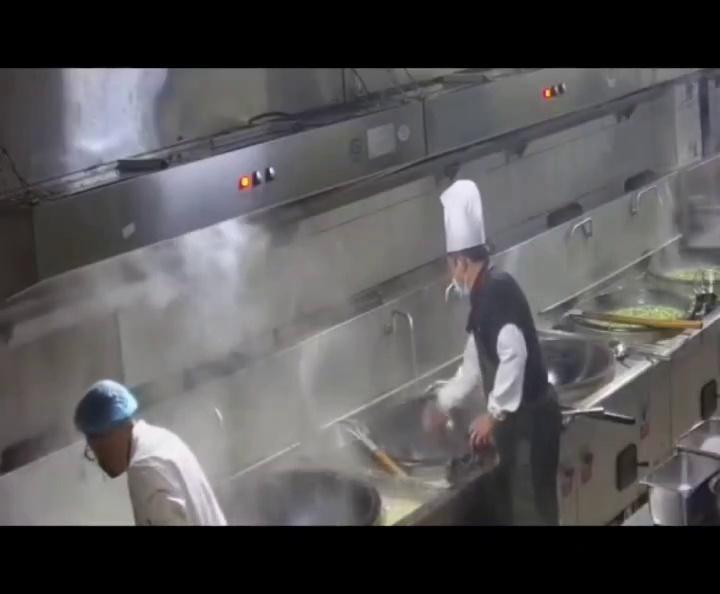gloves: (68, 377, 138, 434)
